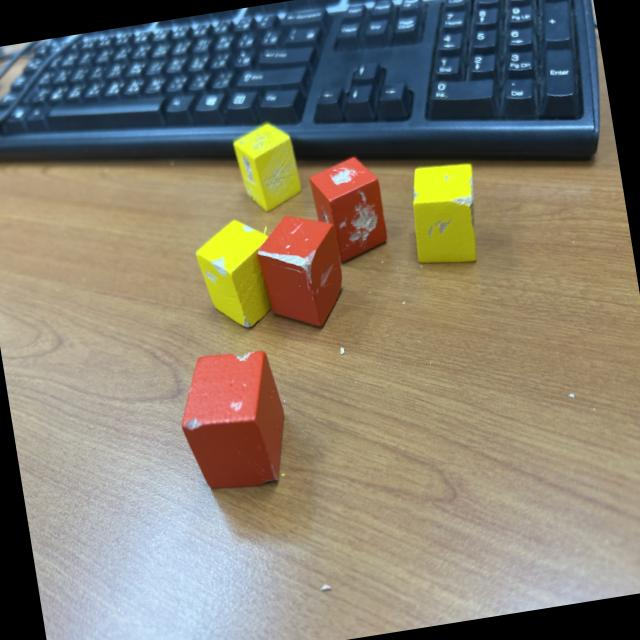broken: (174, 338, 296, 497), (250, 206, 351, 338), (190, 211, 287, 336), (402, 157, 488, 272), (307, 152, 391, 267), (230, 115, 306, 218)
